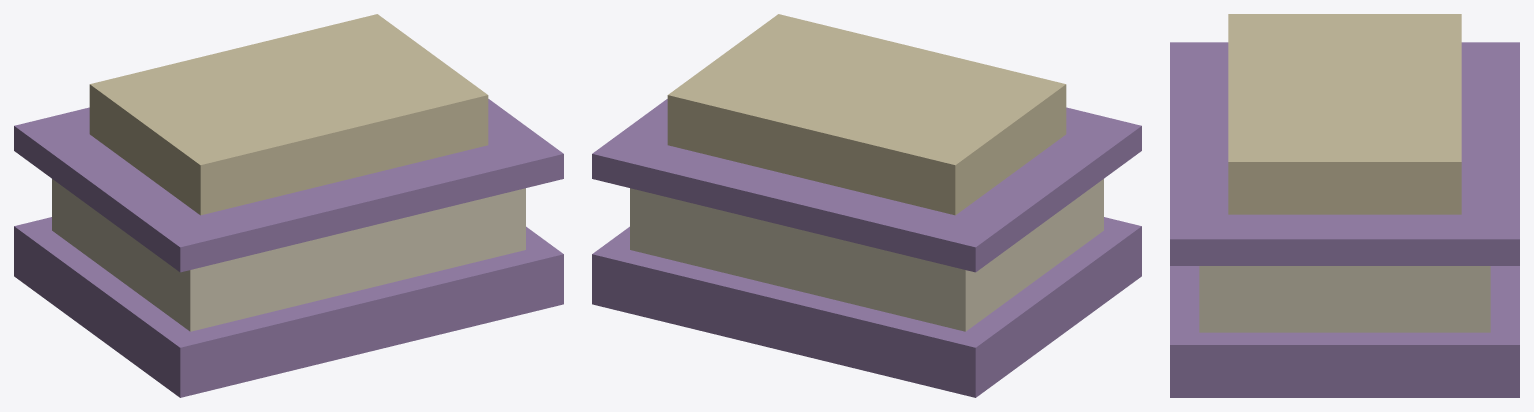
File: crypto-08.glb
3 renders of one model, left to right at view 1: azimuth 30°, elevation 25°; view 2: azimuth 150°, elevation 25°; view 3: azimuth 270°, elevation 25°, orthographic. The views are drawn at different scales.
Visible parts, largest first — view 1: Smart contract; view 2: Smart contract; view 3: Smart contract.
Part boxes in pixels (left/top/right/bottom): Smart contract: left=14, top=14, right=563, bottom=397; Smart contract: left=592, top=14, right=1141, bottom=397; Smart contract: left=1170, top=14, right=1519, bottom=397.
Size of the model in its own units: 1.28 by 0.64 by 0.96.
